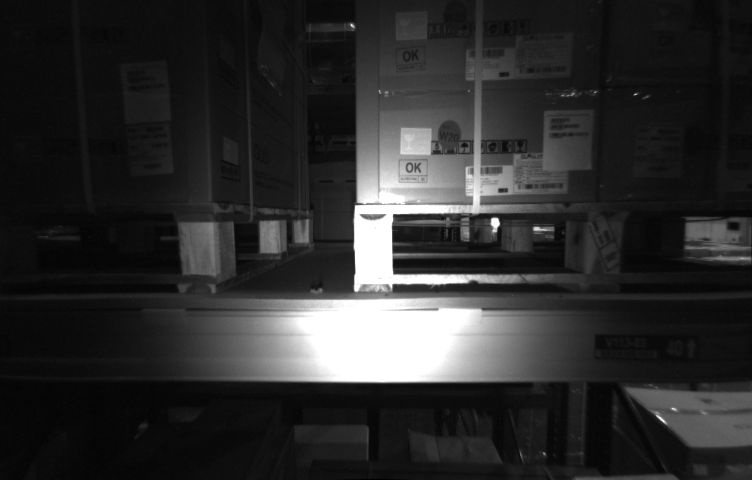True Barcode: (638, 121, 682, 174), (127, 126, 168, 176)
